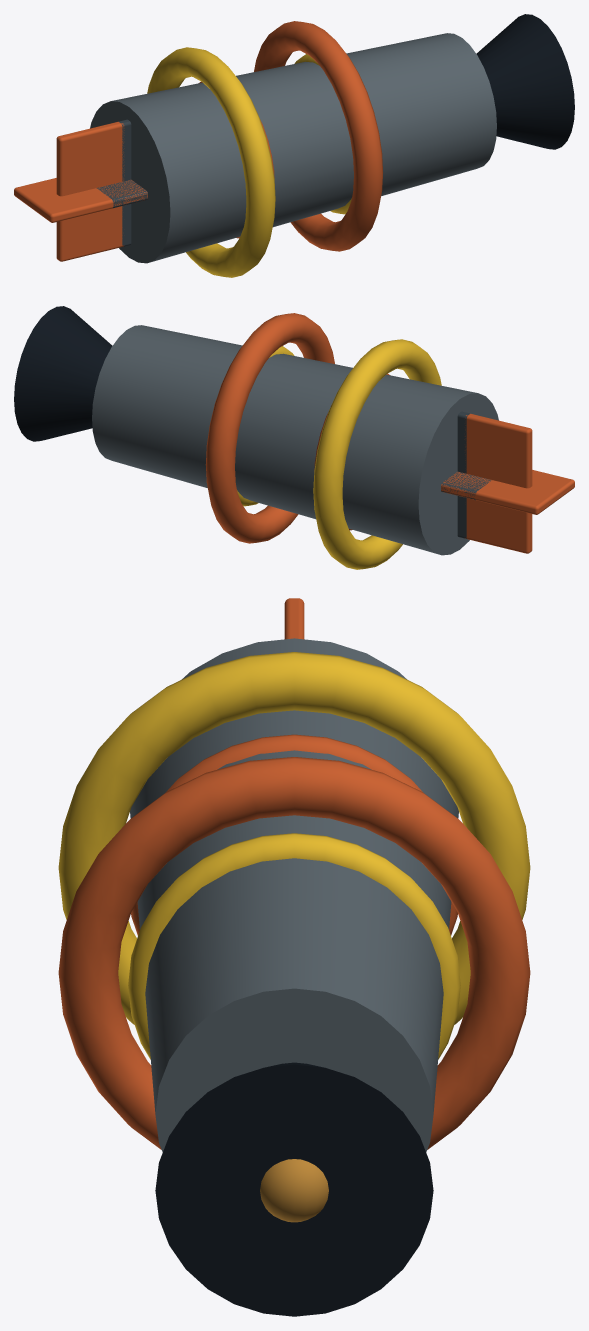
3 renders of one model, top to bottom at view 1: azimuth 30°, elevation 25°; view 2: azimuth 150°, elevation 25°; view 3: azimuth 270°, elevation 25°, orthographic. The views are drawn at different scales.
Bounding box in the file's own units: 4.81 × 1.9 × 1.9.
